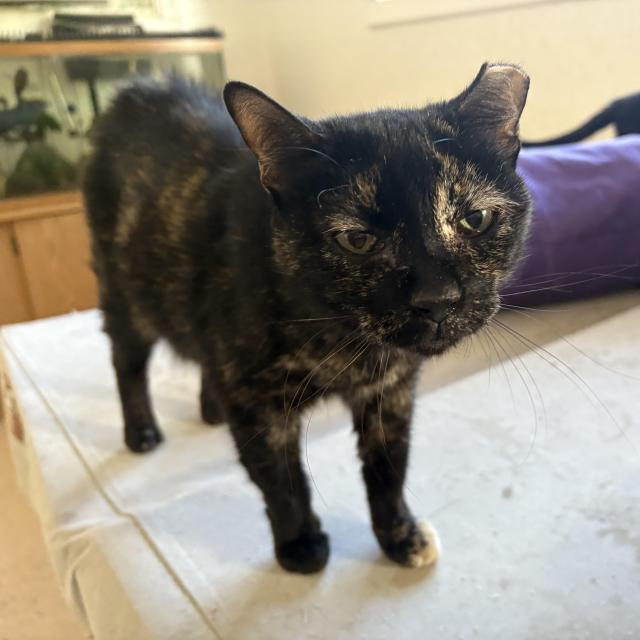manx_cat: (212, 60, 562, 369)
